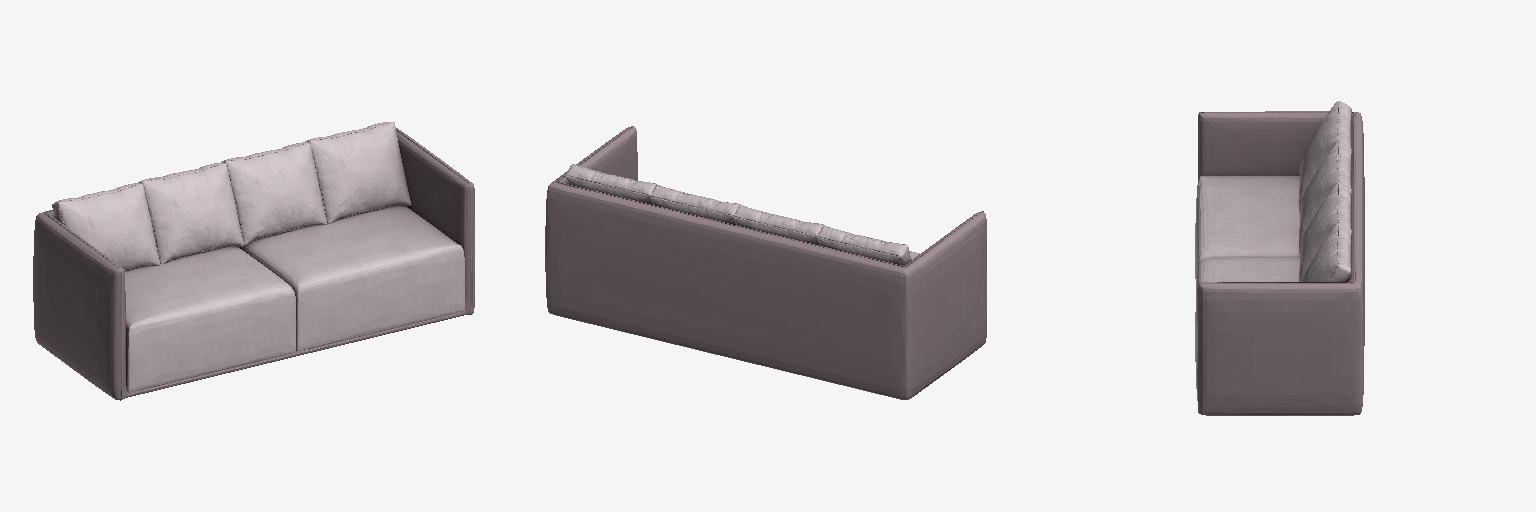
3 views of the same model, side by side, from view 1: azimuth 30°, elevation 25°; view 2: azimuth 150°, elevation 25°; view 3: azimuth 270°, elevation 25° (orthographic).
Parts seen in each view (by area): view 1: solid_001, solid_002; view 2: solid_002, solid_001; view 3: solid_002, solid_001.
Boxes of the visible parts, x1=… form: solid_001: x1=52, y1=122, x2=464, y2=392; solid_002: x1=33, y1=128, x2=474, y2=400; solid_002: x1=545, y1=126, x2=986, y2=399; solid_001: x1=565, y1=164, x2=919, y2=264; solid_002: x1=1198, y1=111, x2=1364, y2=415; solid_001: x1=1195, y1=101, x2=1351, y2=400.
Bounding box in the file's own units: 2 × 0.7622 × 0.7957.
1 materials, 1 textured.